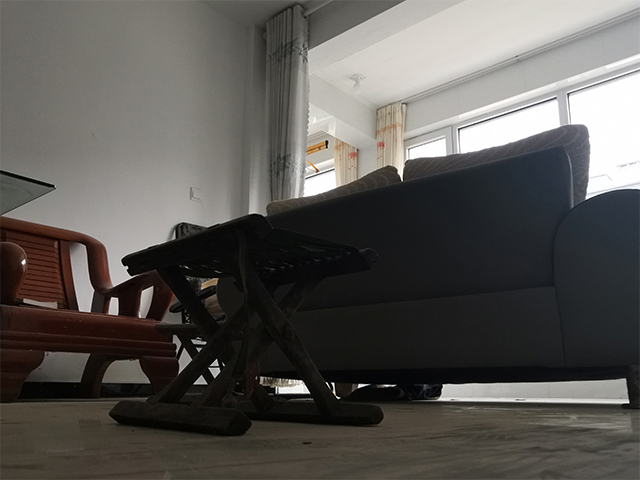curtain: (261, 8, 310, 198)
sofa: (213, 121, 639, 409)
stool: (107, 211, 387, 437), (1, 215, 187, 404)
